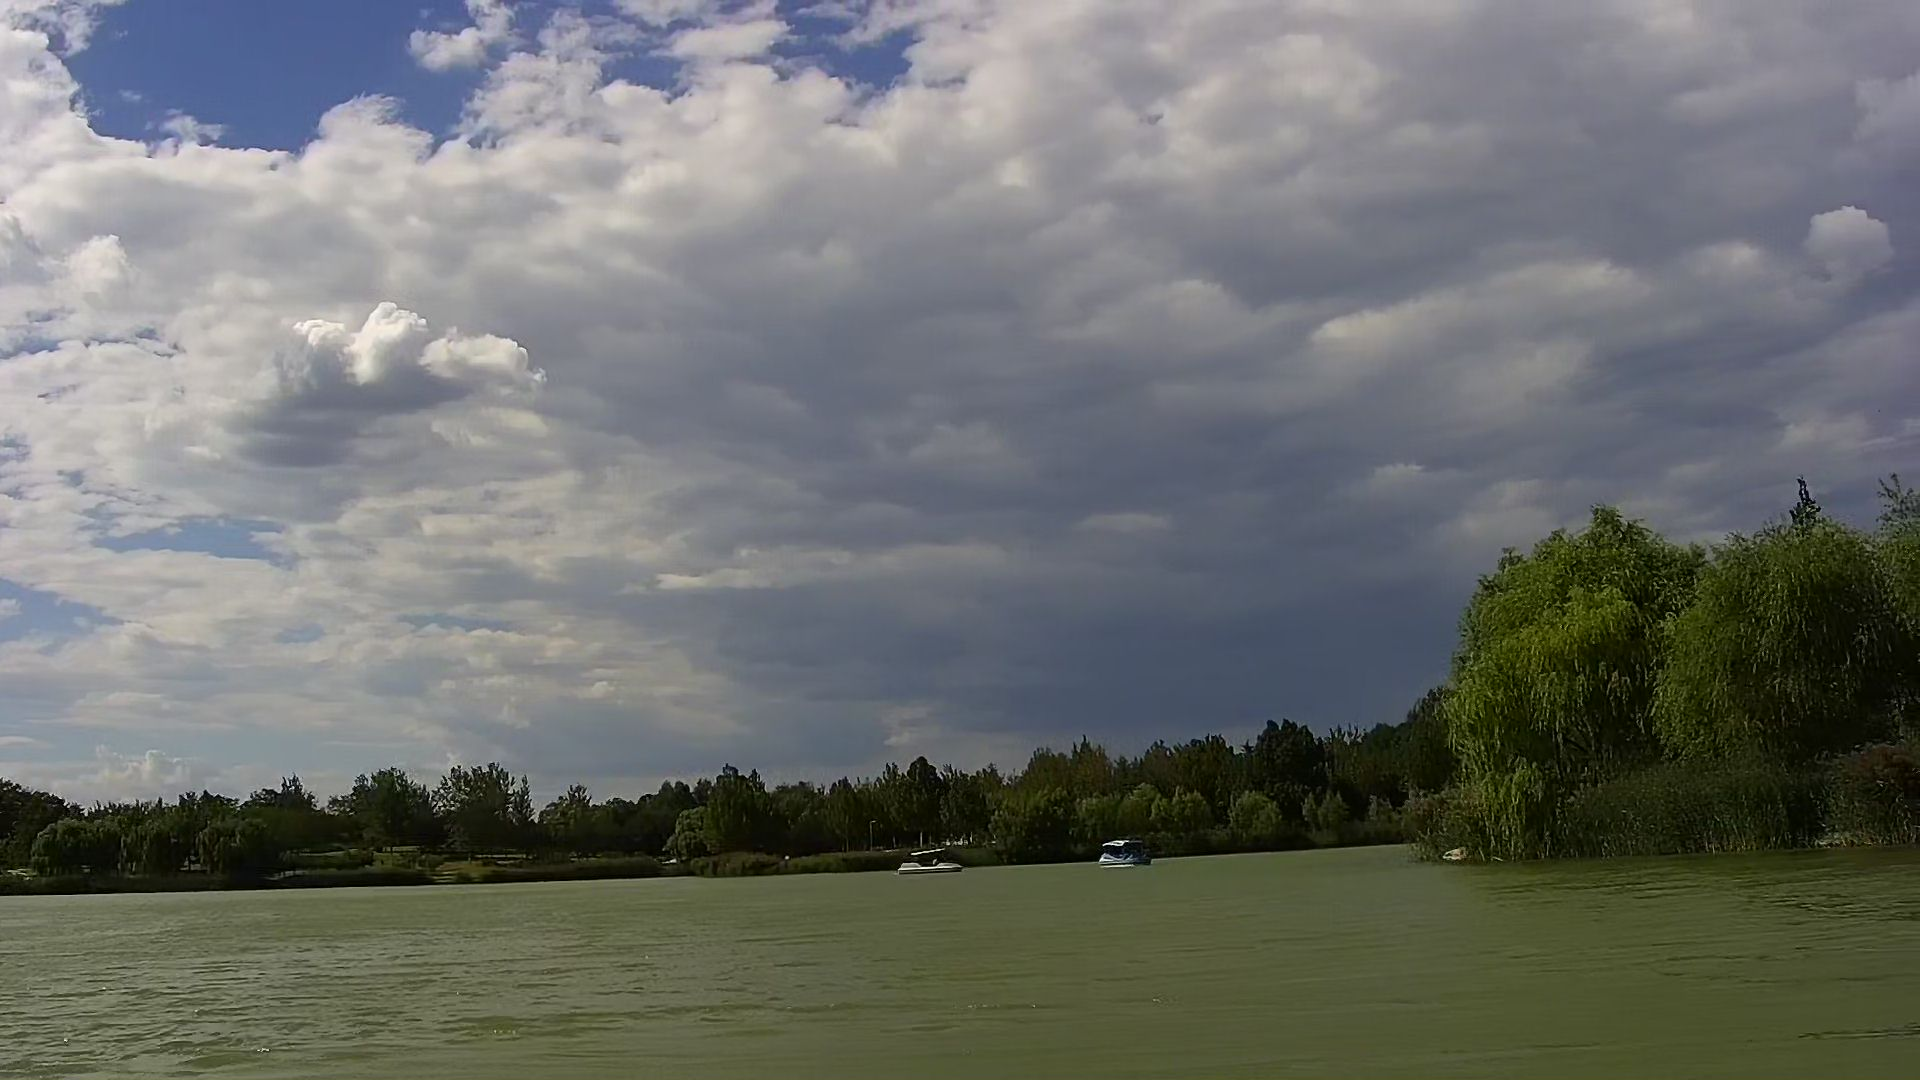boat: (889, 848, 967, 876), (1096, 841, 1145, 869)
rock: (1440, 843, 1473, 864)
